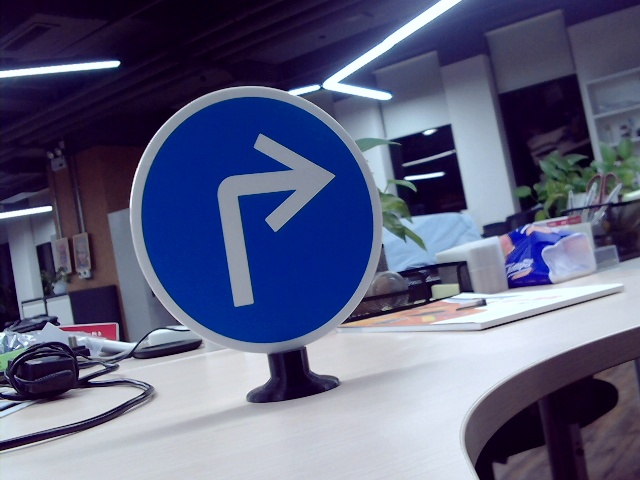turn_right: (191, 133, 346, 316)
